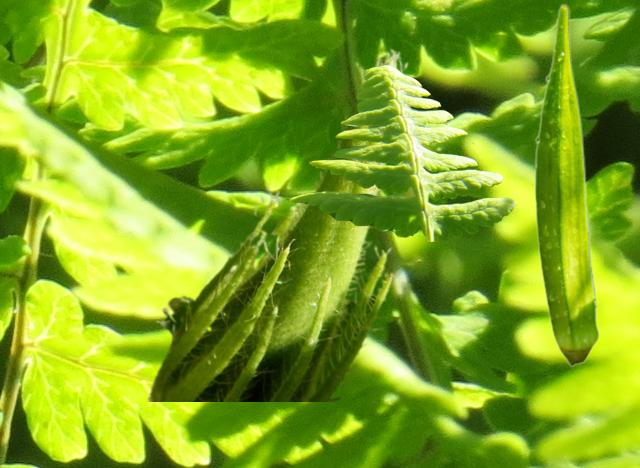okra: (144, 47, 408, 400), (534, 3, 599, 366)
